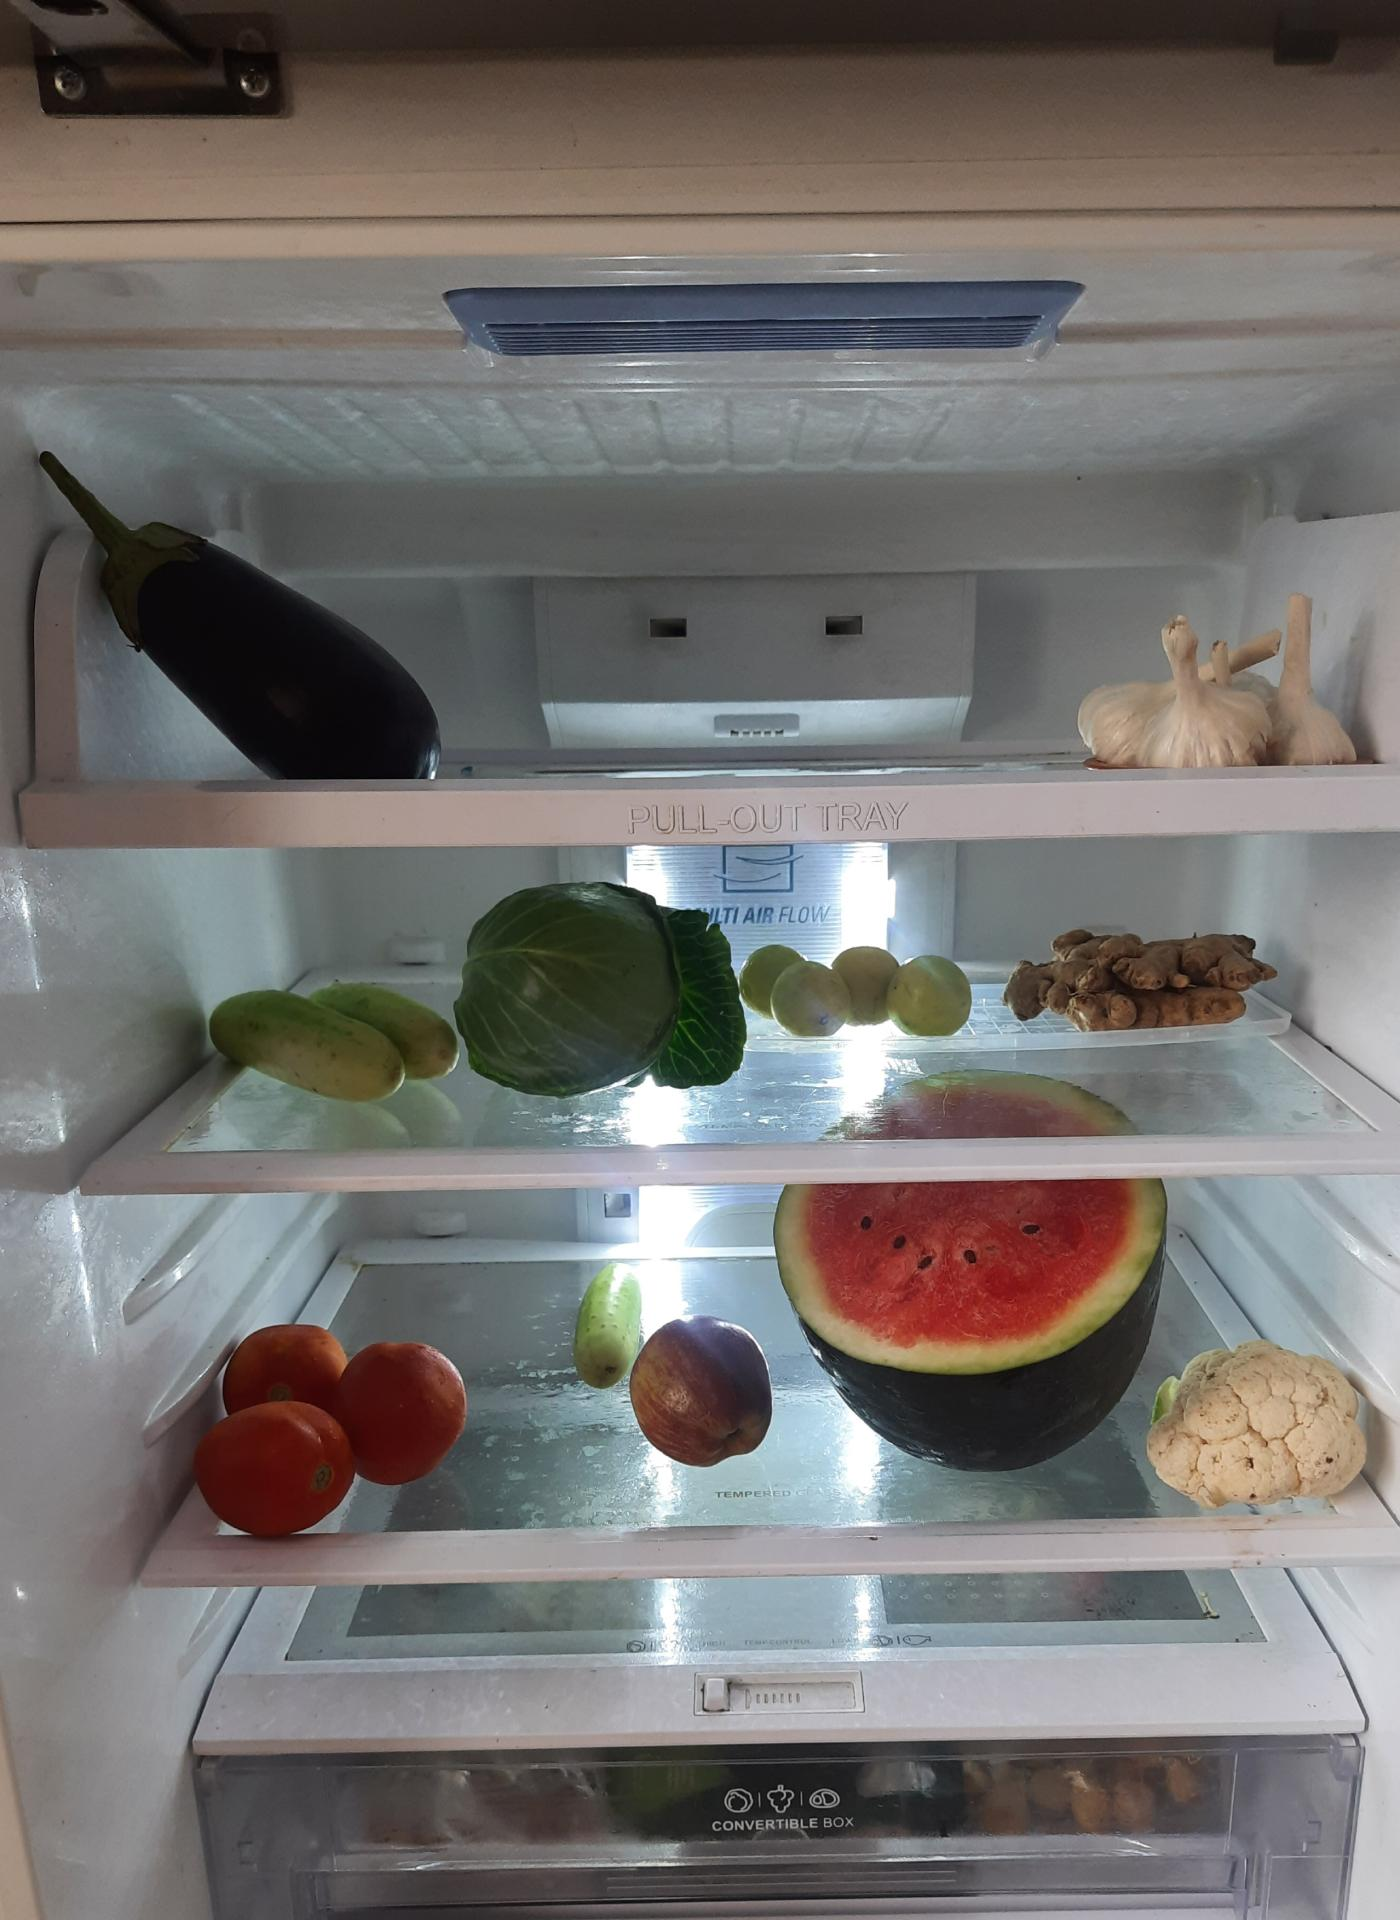apple: (634, 1300, 780, 1461)
brinjal: (46, 459, 432, 781), (573, 1260, 628, 1389)
cabbage: (449, 877, 729, 1100)
cauliflower: (1145, 1337, 1382, 1510)
cucumber: (212, 973, 464, 1100), (571, 1257, 634, 1395)
garlic: (1078, 599, 1372, 774)
ginger: (1005, 927, 1278, 1035)
lemon: (742, 935, 980, 1038)
tomato: (195, 1312, 471, 1525)
watermelon: (769, 1064, 1173, 1465)
